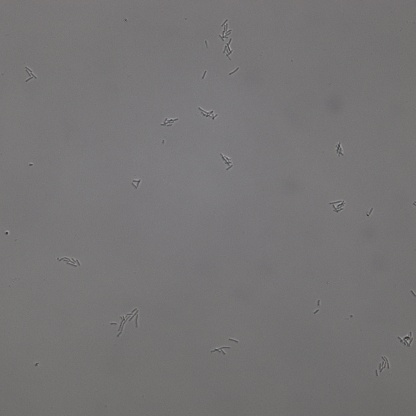R(colony): (109, 307, 140, 338), (375, 356, 390, 378), (57, 255, 81, 268), (218, 19, 232, 41), (198, 106, 218, 120), (219, 151, 233, 171), (397, 332, 414, 347), (223, 38, 234, 61), (329, 199, 346, 213), (24, 66, 37, 84), (160, 117, 178, 128), (211, 346, 230, 356), (334, 141, 345, 157), (131, 180, 141, 189)
